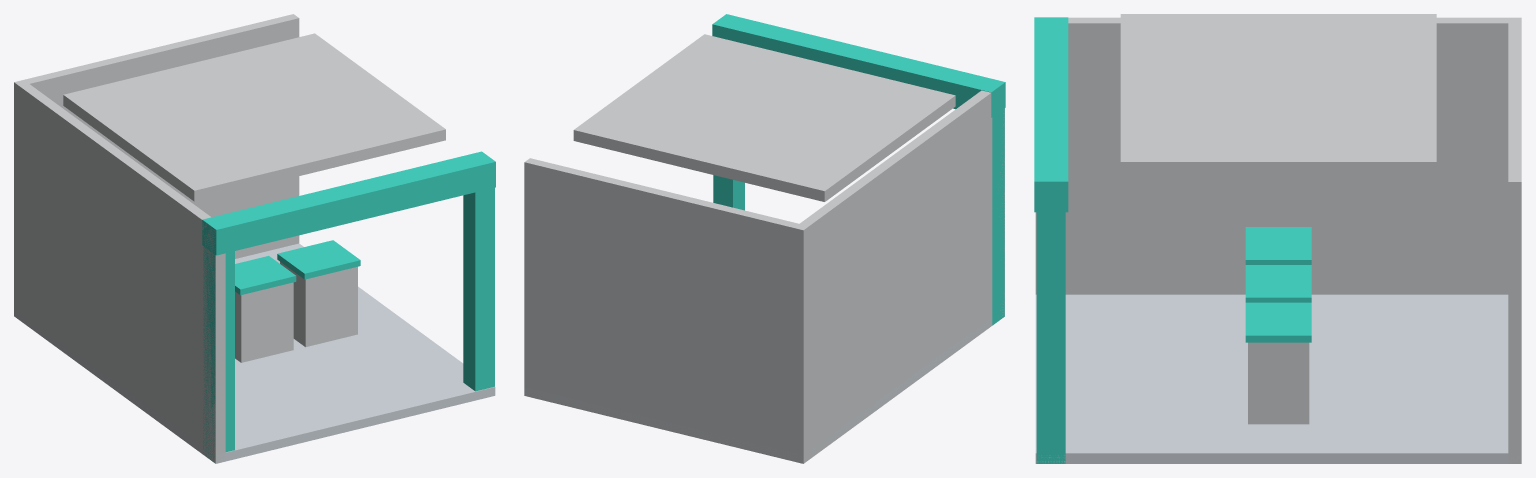
3 renders of one model, left to right at view 1: azimuth 30°, elevation 25°; view 2: azimuth 150°, elevation 25°; view 3: azimuth 270°, elevation 25°, orthographic. The views are drawn at different scales.
Parts seen in each view (by area): view 1: Exhibition Booth Concept; view 2: Exhibition Booth Concept; view 3: Exhibition Booth Concept.
Boxes of the visible parts, left/top/right/bottom form: Exhibition Booth Concept: left=14, top=14, right=495, bottom=463; Exhibition Booth Concept: left=524, top=14, right=1005, bottom=463; Exhibition Booth Concept: left=1034, top=14, right=1521, bottom=463.
Size of the model in its own units: 4 by 3.34 by 5.02.
